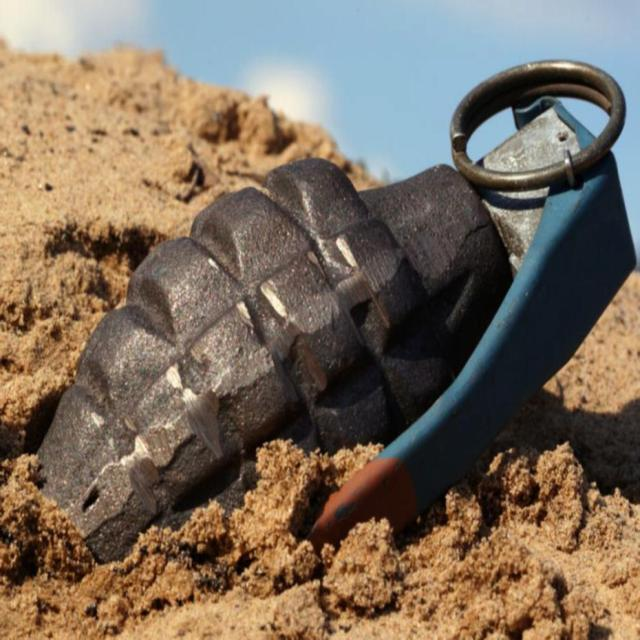grenade: (35, 60, 638, 566)
